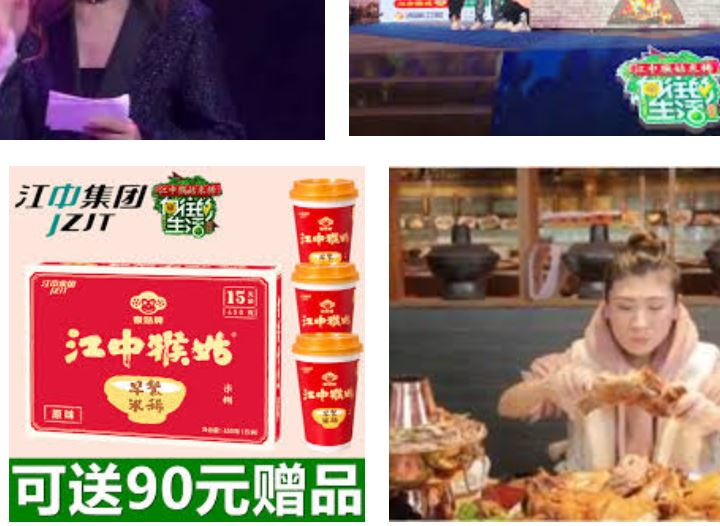cup: (27, 260, 285, 447), (292, 336, 363, 446), (293, 175, 357, 261), (291, 264, 360, 335)
